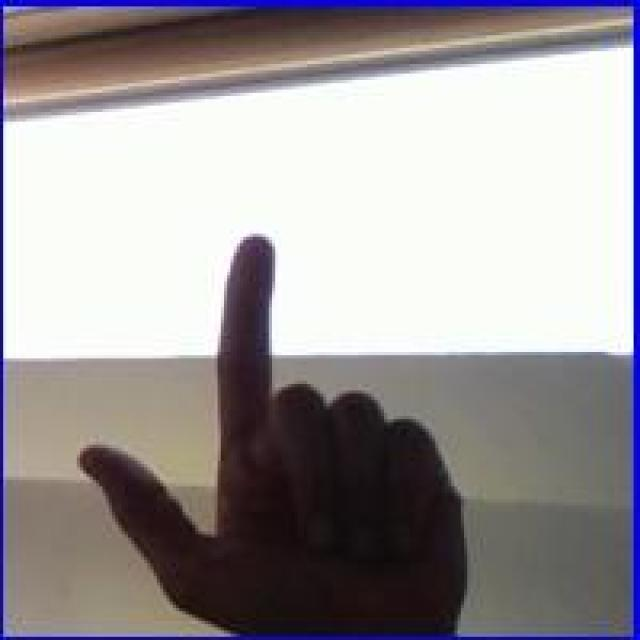L: (74, 227, 474, 624)
